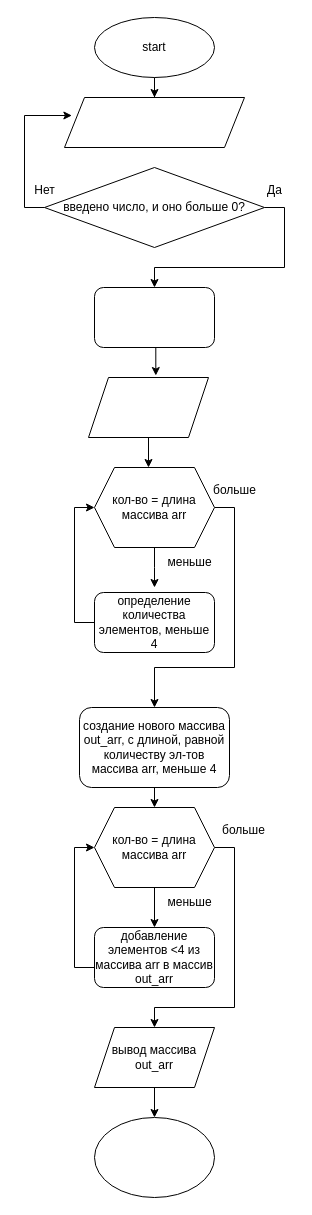
The diagram is 312 pixels wide and 1215 high, and some of its shapes have lost their labels. The centre of each missing label's shape, as x and y in pixels:
finish: [154,1157]
ввод количества элементов в массиве arr: [154,122]
ввод элементов массива arr: [148,407]
определение переменной длины массива arr: [154,317]
